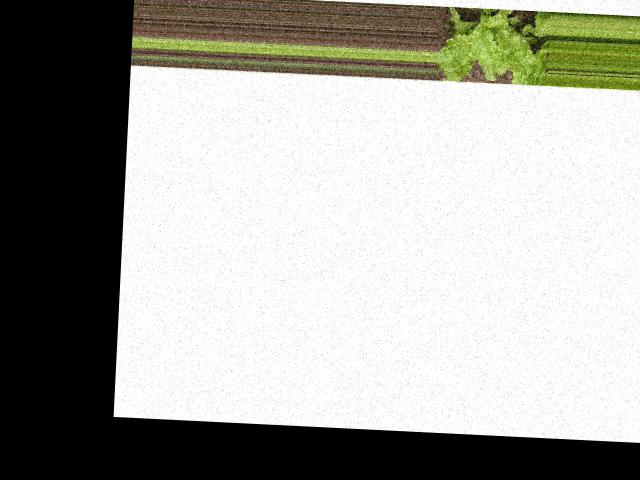lettuce: (437, 1, 551, 82)
